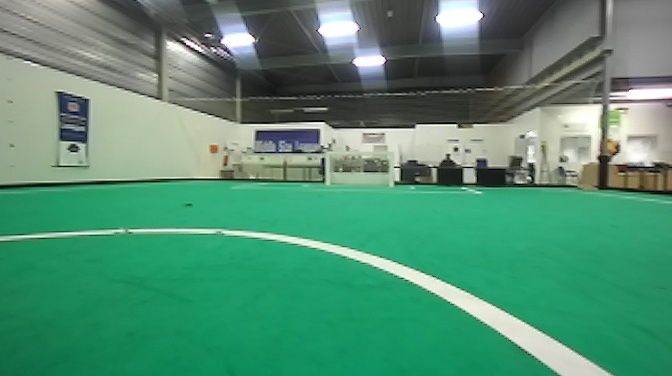goalpost: (384, 138, 401, 187), (322, 149, 334, 187)
